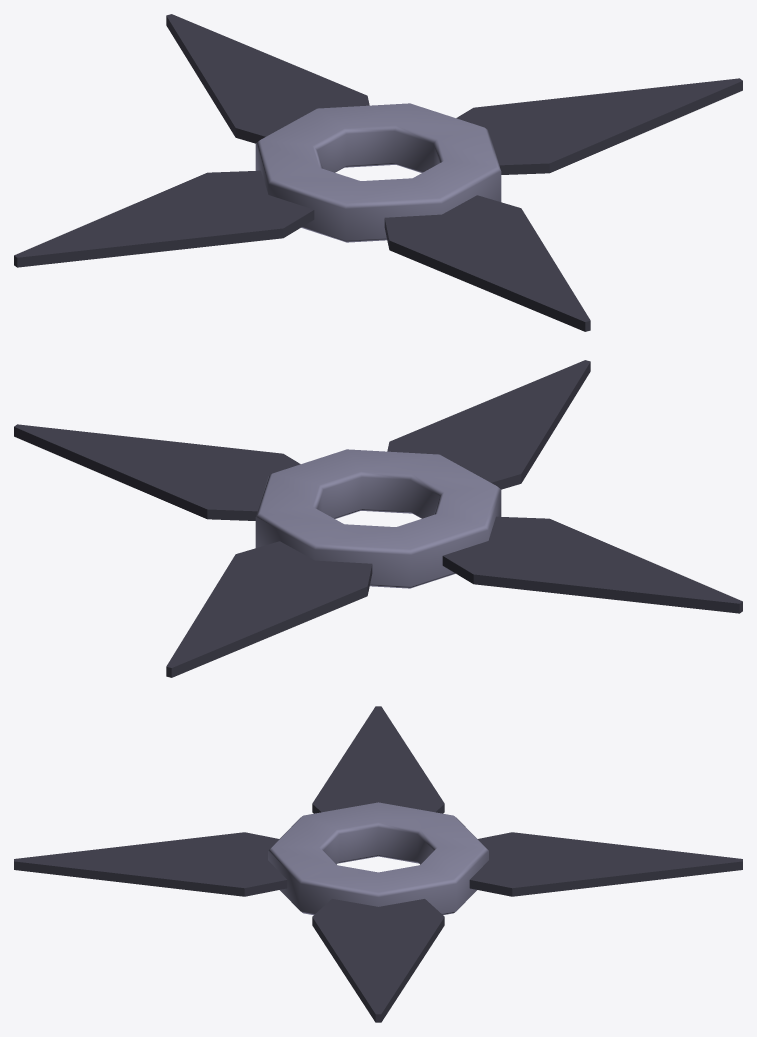
The model's file is Disc.fbx.
3 views of the same model, one above another, from view 1: azimuth 30°, elevation 25°; view 2: azimuth 150°, elevation 25°; view 3: azimuth 270°, elevation 25° (orthographic). The views are drawn at different scales.
Visible parts, largest first — view 1: Disc; view 2: Disc; view 3: Disc.
Part boxes in pixels (<box>): Disc: <box>14,14,742,331</box>; Disc: <box>14,360,742,677</box>; Disc: <box>14,706,742,1022</box>.
Size of the model in its own units: 6.6 by 0.342 by 6.6.
